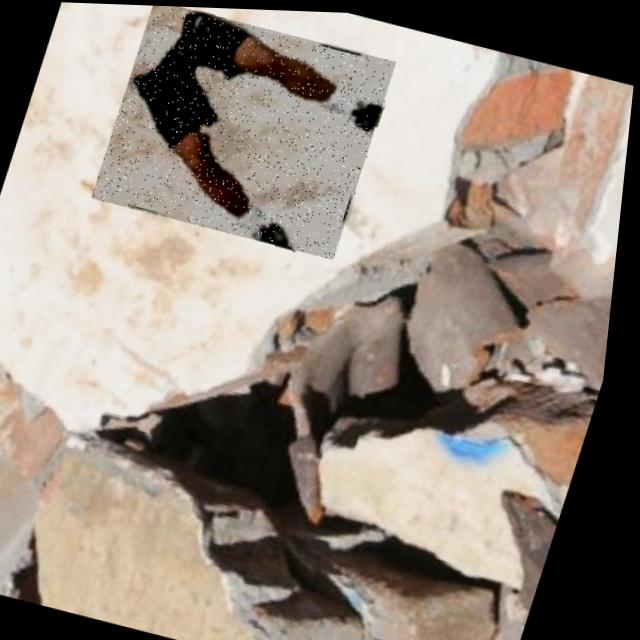Person in Rubble: (91, 3, 402, 257)
